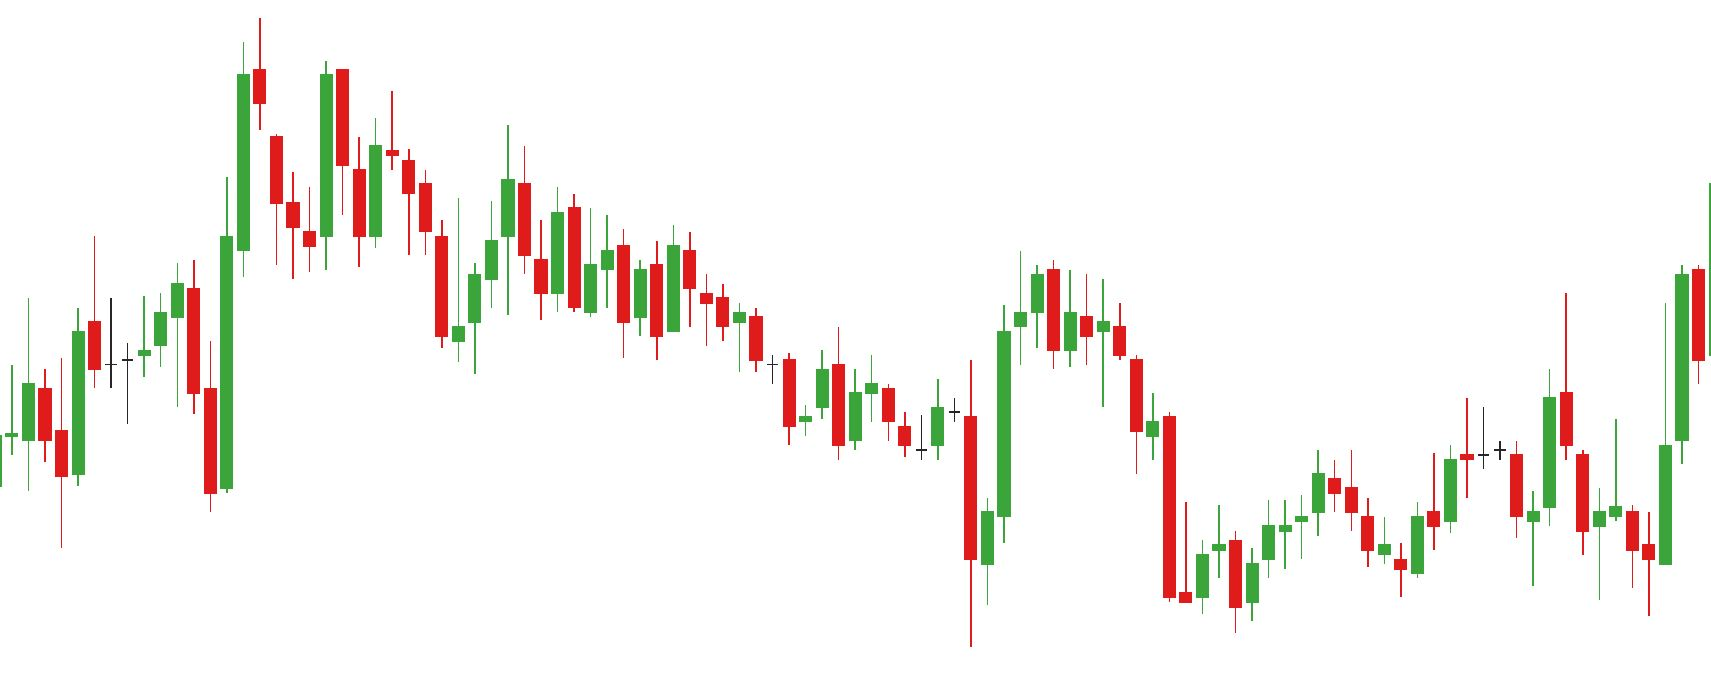buy: (119, 302, 237, 518), (1527, 445, 1605, 604)
sell: (829, 246, 1063, 443)
